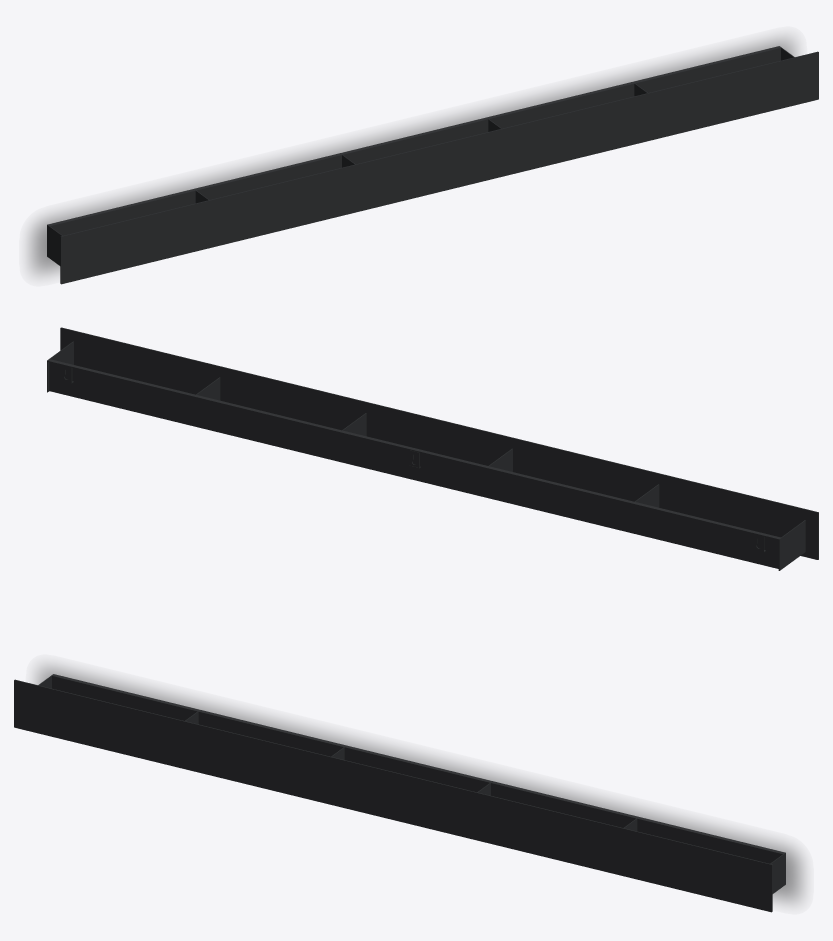
File: skyline-mono.18cef01050.ar.glb
The picture shows the model from 3 angles, top to bottom: view 1: azimuth 30°, elevation 25°; view 2: azimuth 150°, elevation 25°; view 3: azimuth 330°, elevation 25°; orthographic projection.
Visible parts, largest first — view 1: NAUO1, object 2; view 2: NAUO1; view 3: NAUO1, object 2.
Part boxes in pixels (x1,y1,x2,y2): NAUO1: (47, 46, 818, 284); object 2: (29, 38, 797, 274); NAUO1: (47, 327, 818, 570); NAUO1: (14, 674, 785, 912); object 2: (35, 666, 803, 902).
Bounding box in the file's own units: 1.58 × 0.17 × 0.093.
Materials: 2 (1 with a texture image).
